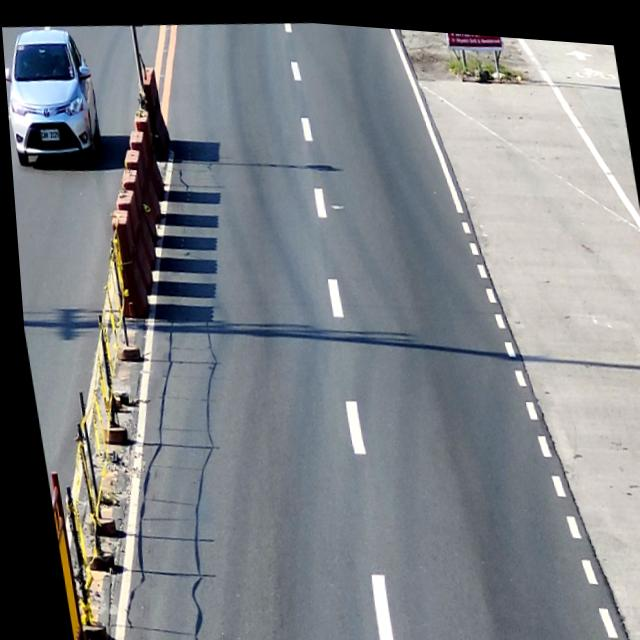Car: (1, 22, 105, 172)
License-Plate: (38, 127, 58, 141)
